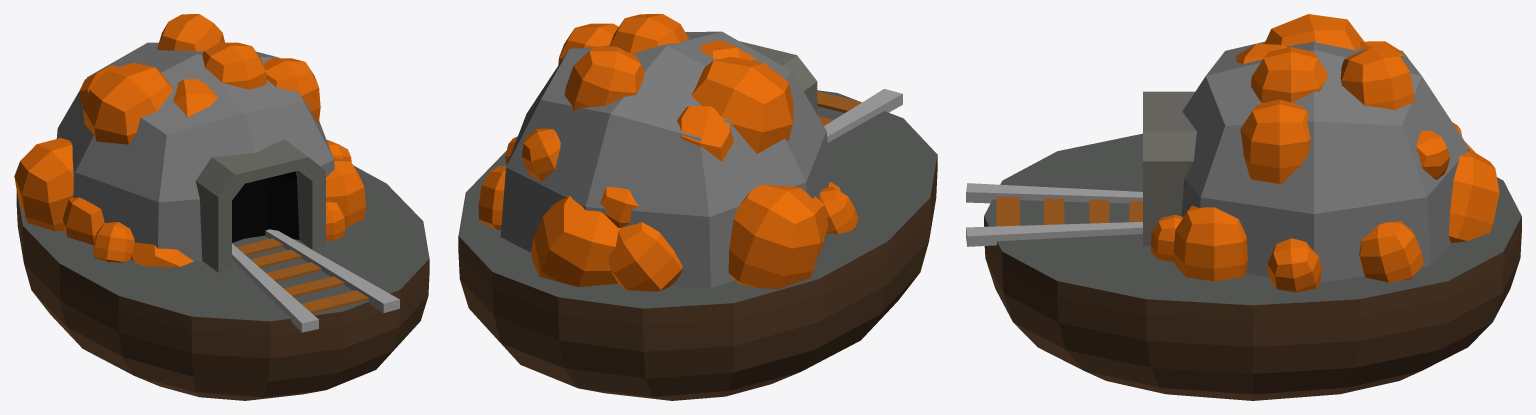
Rendered from Prefab Mina Media.fbx.
3 renders of one model, left to right at view 1: azimuth 30°, elevation 25°; view 2: azimuth 150°, elevation 25°; view 3: azimuth 270°, elevation 25°, orthographic. The views are drawn at different scales.
Parts seen in each view (by area): view 1: Suelo, Cueba, Minerales, Vias metal, Vias madera; view 2: Suelo, Minerales, Cueba, Vias metal, Vias madera; view 3: Suelo, Cueba, Minerales, Vias metal, Vias madera.
Part boxes in pixels (x1,y1,x2,y2): Suelo: [16, 165, 429, 400]; Cueba: [56, 42, 334, 272]; Minerales: [14, 14, 365, 267]; Vias metal: [232, 229, 399, 332]; Vias madera: [236, 238, 368, 313]; Suelo: [458, 90, 937, 400]; Minerales: [478, 14, 858, 291]; Cueba: [500, 31, 830, 288]; Vias metal: [824, 89, 902, 142]; Vias madera: [817, 91, 861, 125]; Suelo: [984, 133, 1521, 400]; Cueba: [1143, 41, 1469, 282]; Minerales: [1150, 14, 1499, 292]; Vias metal: [966, 183, 1142, 246]; Vias madera: [996, 196, 1142, 226].
Bounding box in the file's own units: 342 × 289 × 450.
